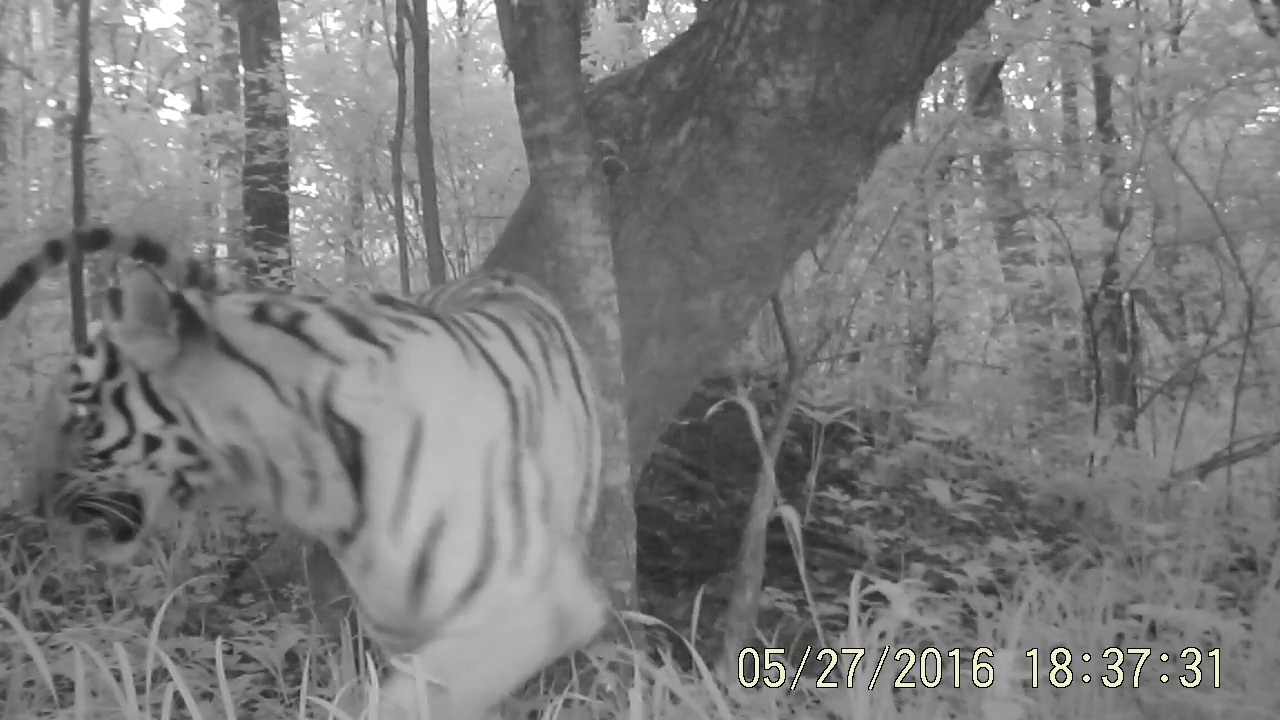Tiger: (2, 109, 666, 715)
